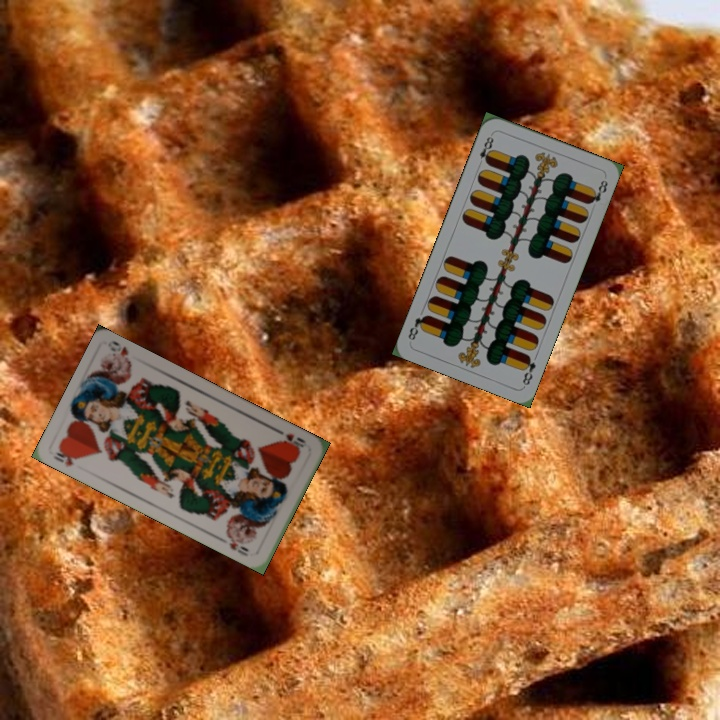E8: (474, 130, 496, 168), (518, 351, 539, 388)
HO: (272, 425, 308, 453), (49, 444, 82, 469)
